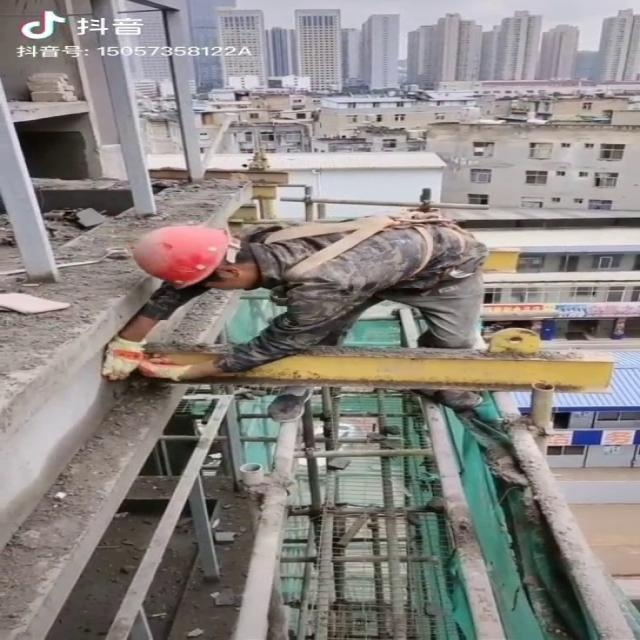Arnes_seguridad: (252, 205, 489, 288)
